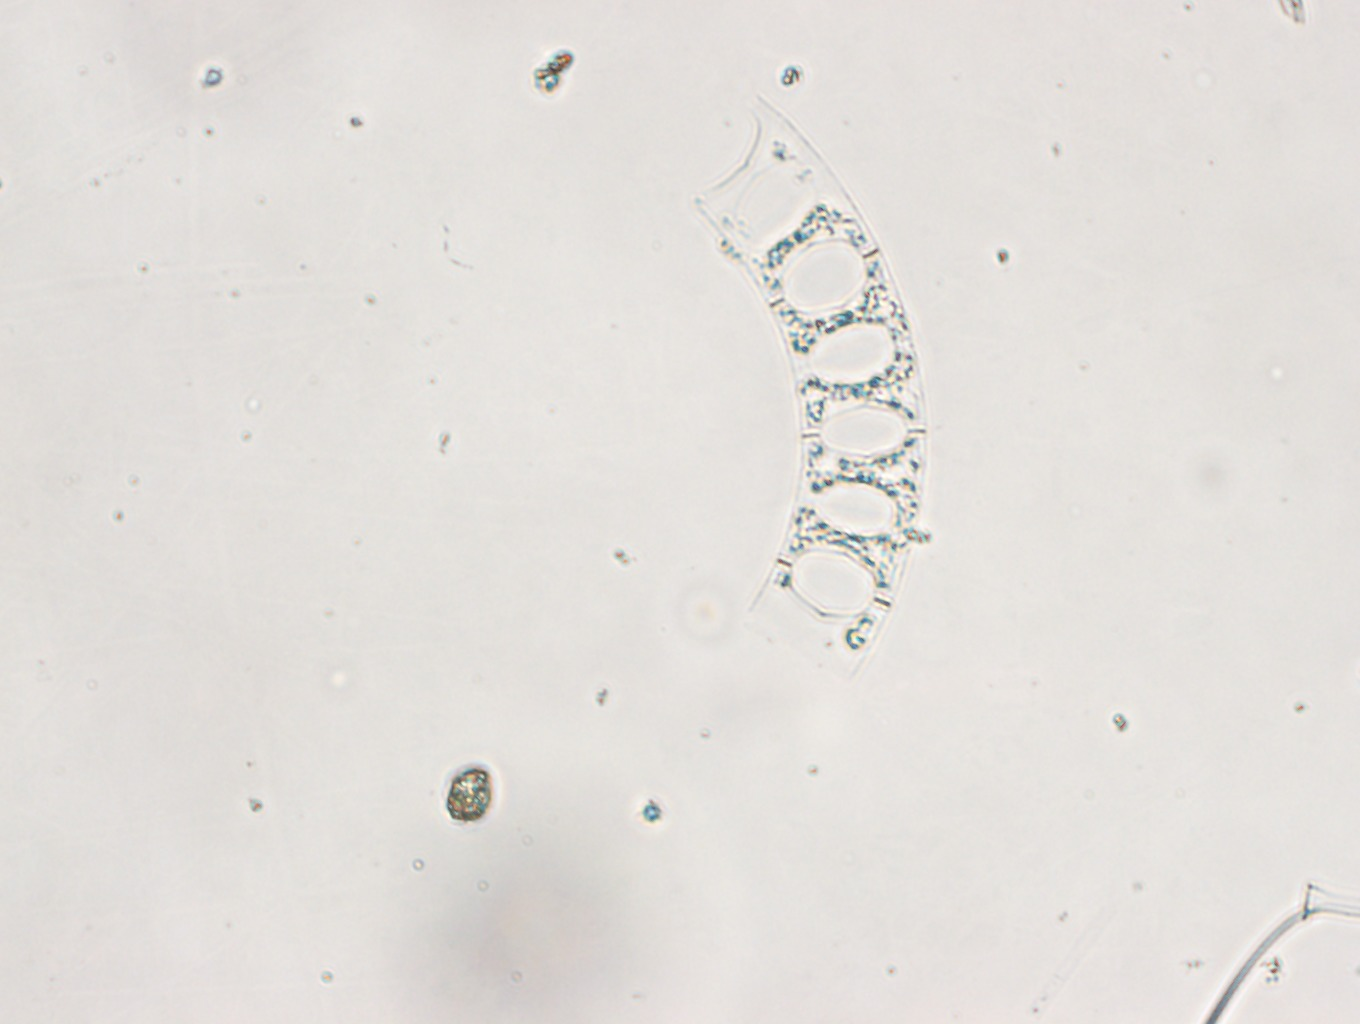eucampia: (698, 94, 926, 672)
